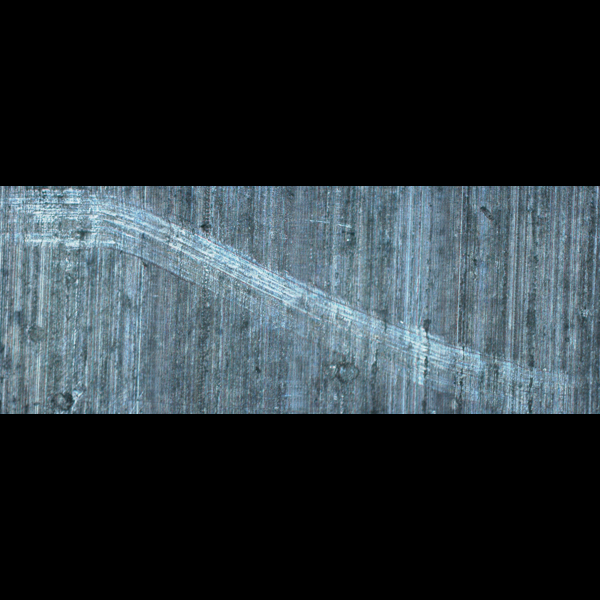d: (0, 186, 176, 252), (416, 337, 570, 402), (282, 297, 437, 359), (157, 239, 284, 301)
